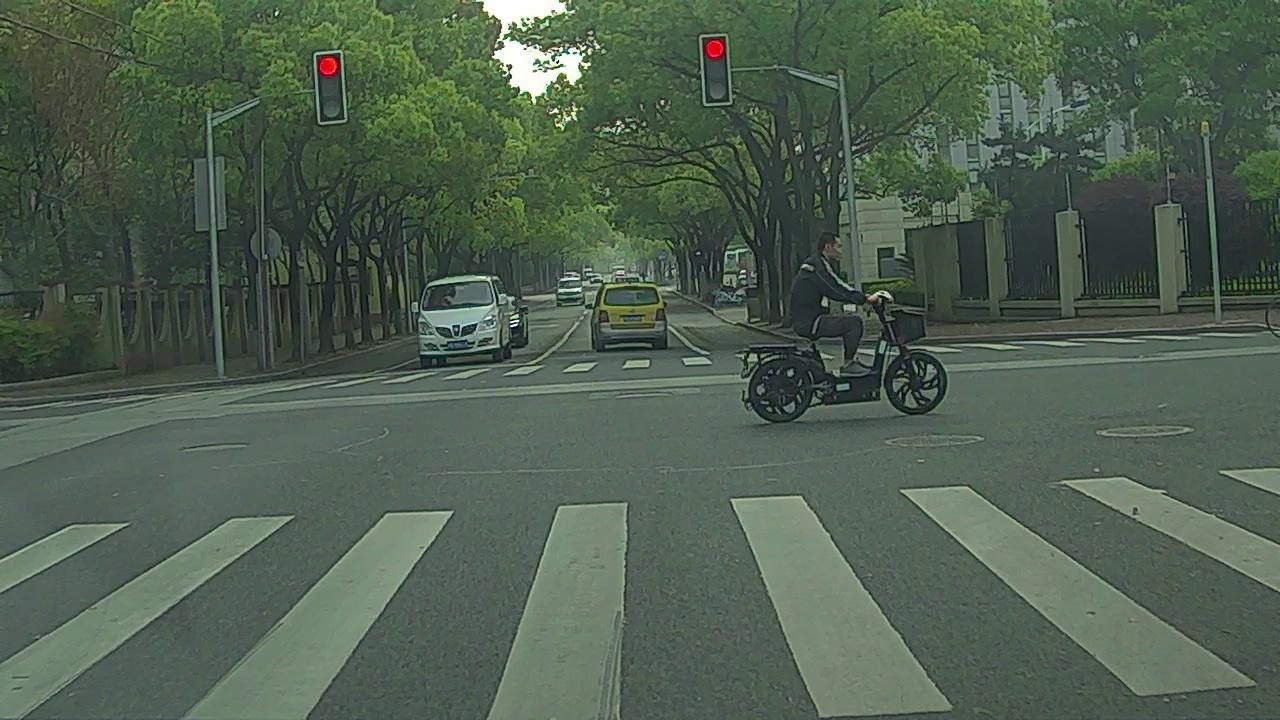traffic_light: (314, 54, 347, 122), (701, 36, 732, 105)
